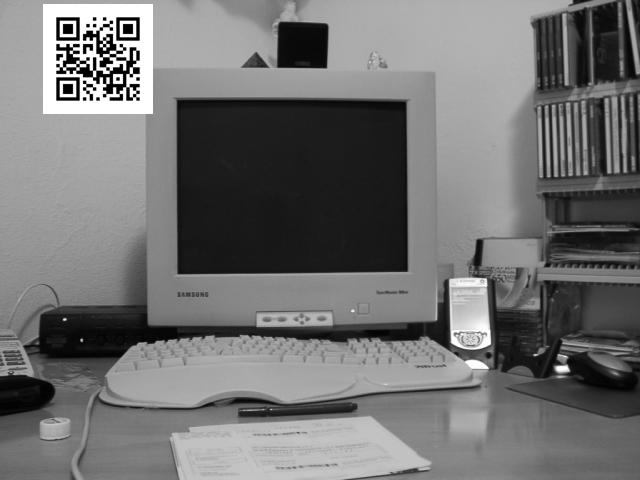qr_code: (43, 5, 152, 113)
